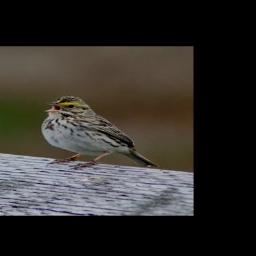Sparrow: (39, 93, 156, 171)
